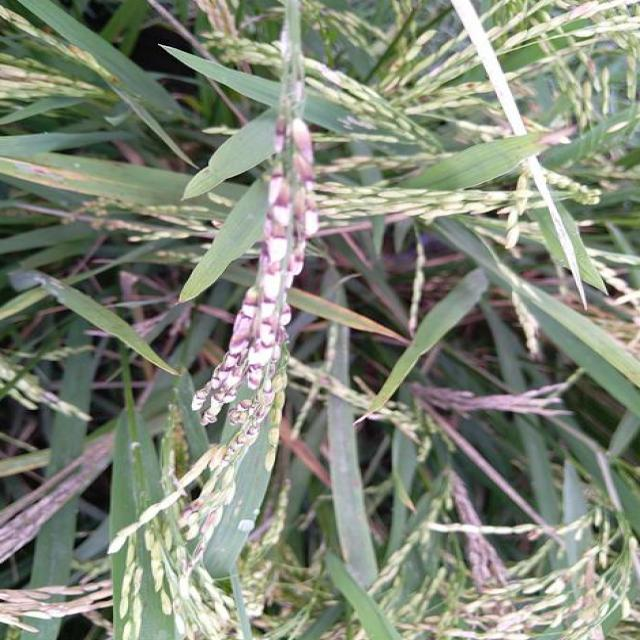Panicle Blight: (193, 0, 319, 471), (0, 61, 102, 97), (180, 502, 223, 579)
